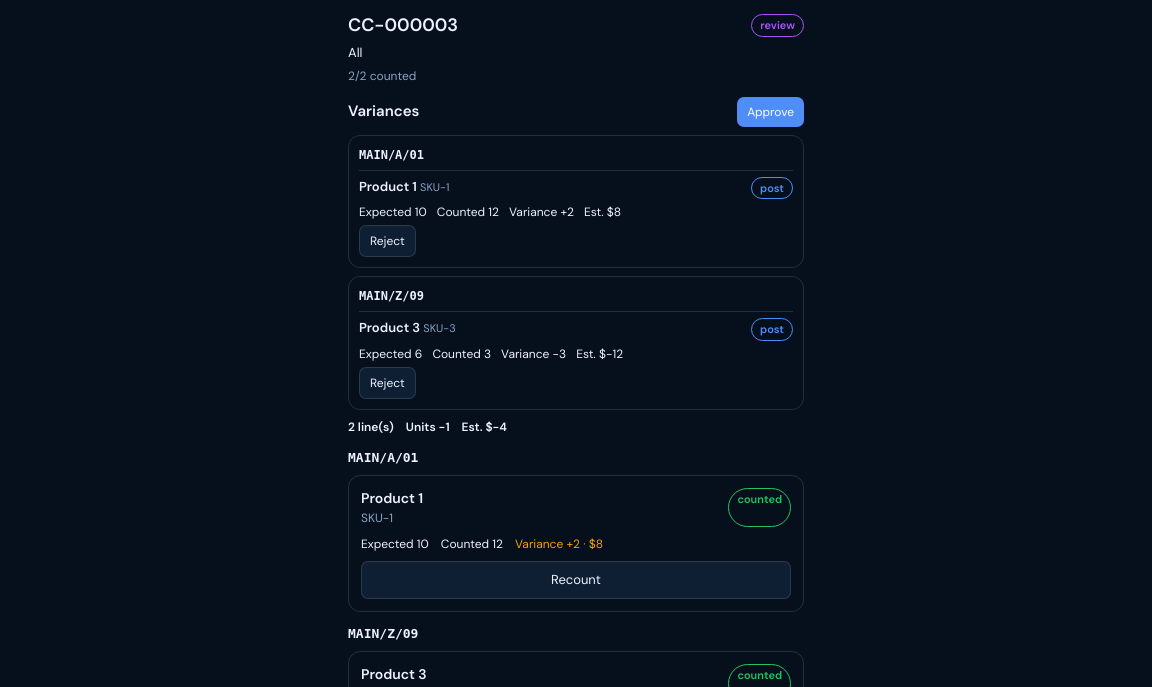
Test case: Count review and approval › a 400 line detail stays on screen and the count stays in review
Step 1. Click the button "Approve" → click(771, 112), box [737, 96, 804, 126]
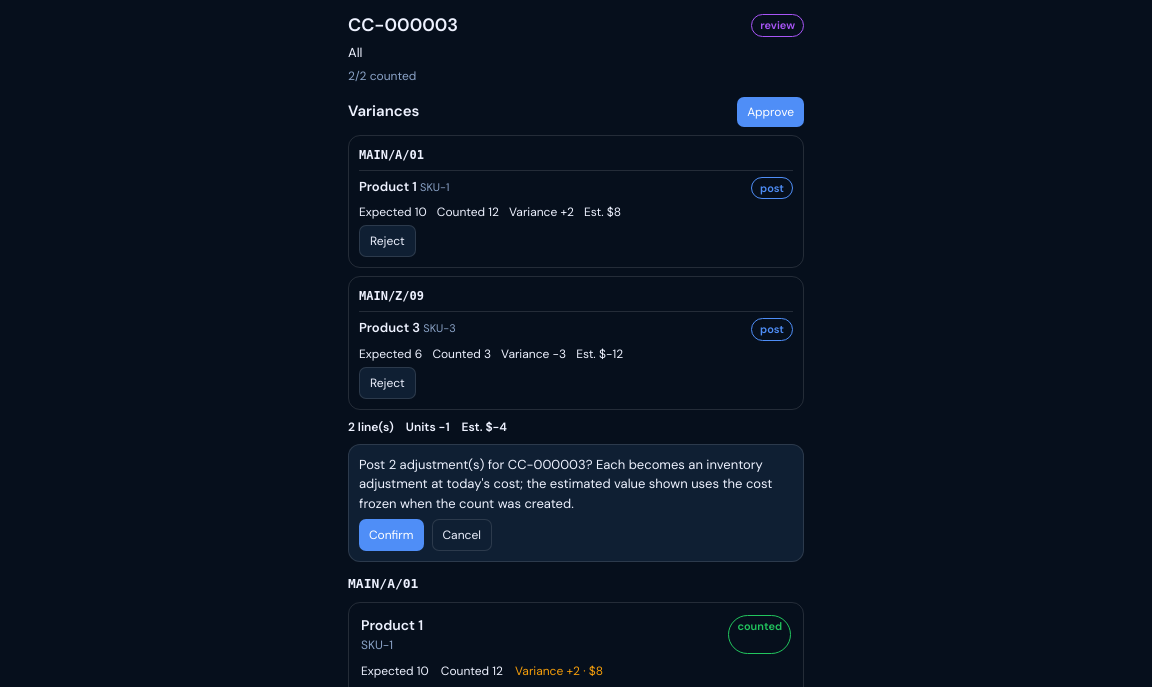
Step 2. Click the button "Confirm" → click(391, 535), box [359, 519, 424, 551]
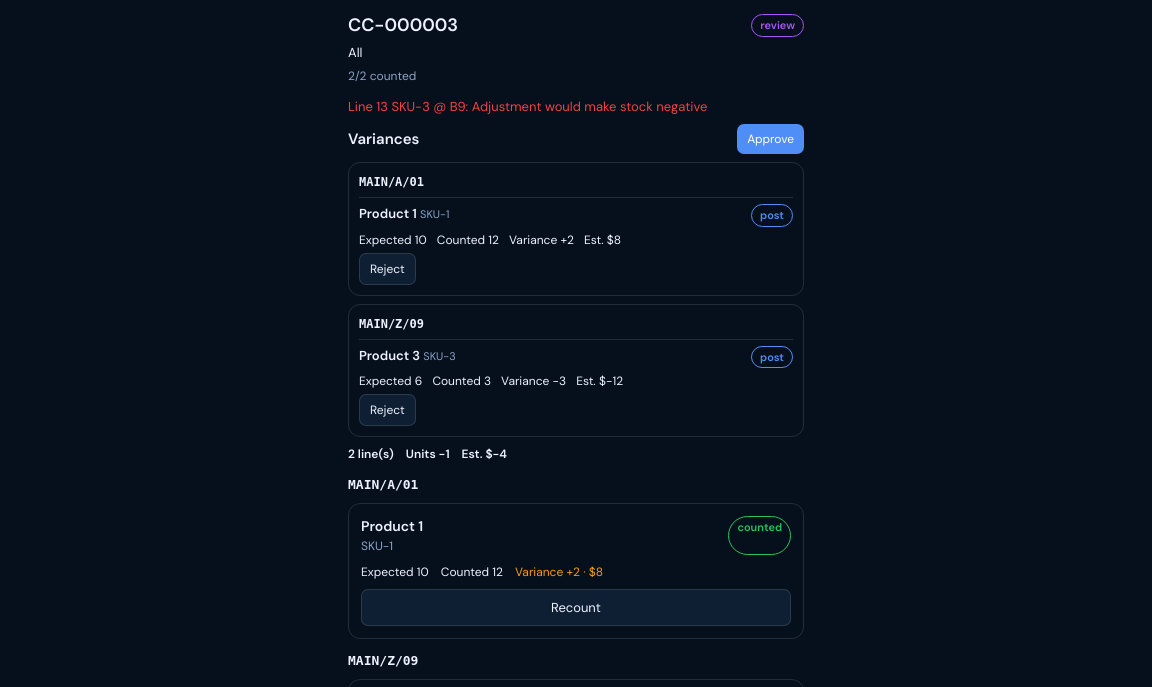
Expected: the text with test id "count-status" reads "review", [760, 18, 795, 32]
Result: the message with test id "variances-error" reads "Line 13 SKU-3 @ B9: Adjustment would make stock negative" at [348, 98, 707, 114]
